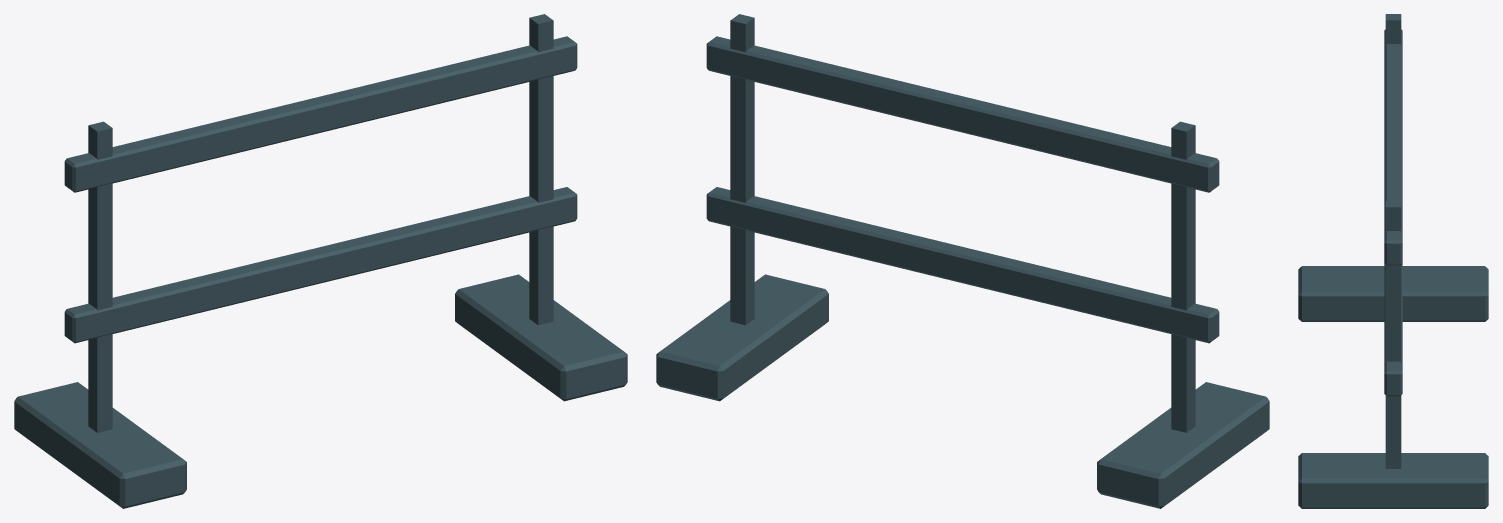
Rendered from portable_barrier.glb.
3 renders of one model, left to right at view 1: azimuth 30°, elevation 25°; view 2: azimuth 150°, elevation 25°; view 3: azimuth 270°, elevation 25°, orthographic. The views are drawn at different scales.
Visible parts, largest first — view 1: portable_barrier__VVK_painted_steel; view 2: portable_barrier__VVK_painted_steel; view 3: portable_barrier__VVK_painted_steel.
Part boxes in pixels (left/top/right/bottom): portable_barrier__VVK_painted_steel: left=14, top=14, right=627, bottom=508; portable_barrier__VVK_painted_steel: left=656, top=14, right=1269, bottom=508; portable_barrier__VVK_painted_steel: left=1298, top=14, right=1488, bottom=508.
Bounding box in the file's own units: 1.66 × 1.05 × 0.62.
